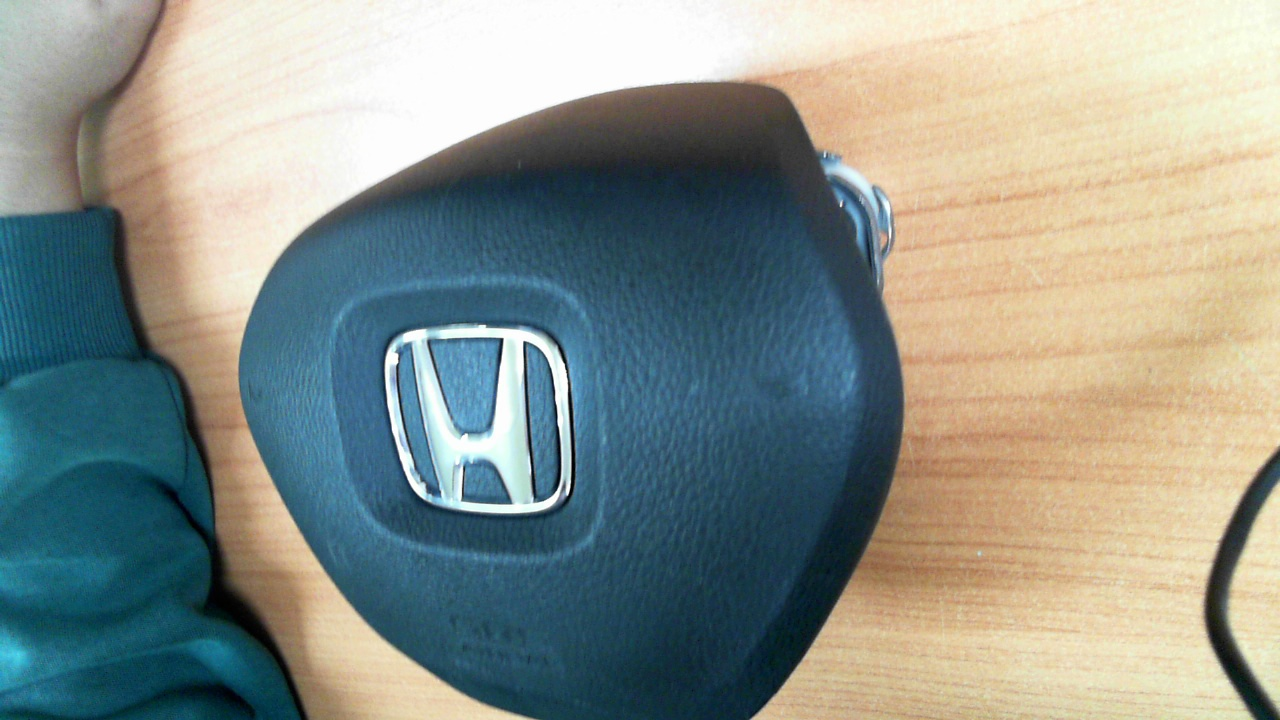Airbag: (236, 79, 905, 718)
Honda: (384, 323, 576, 515)
